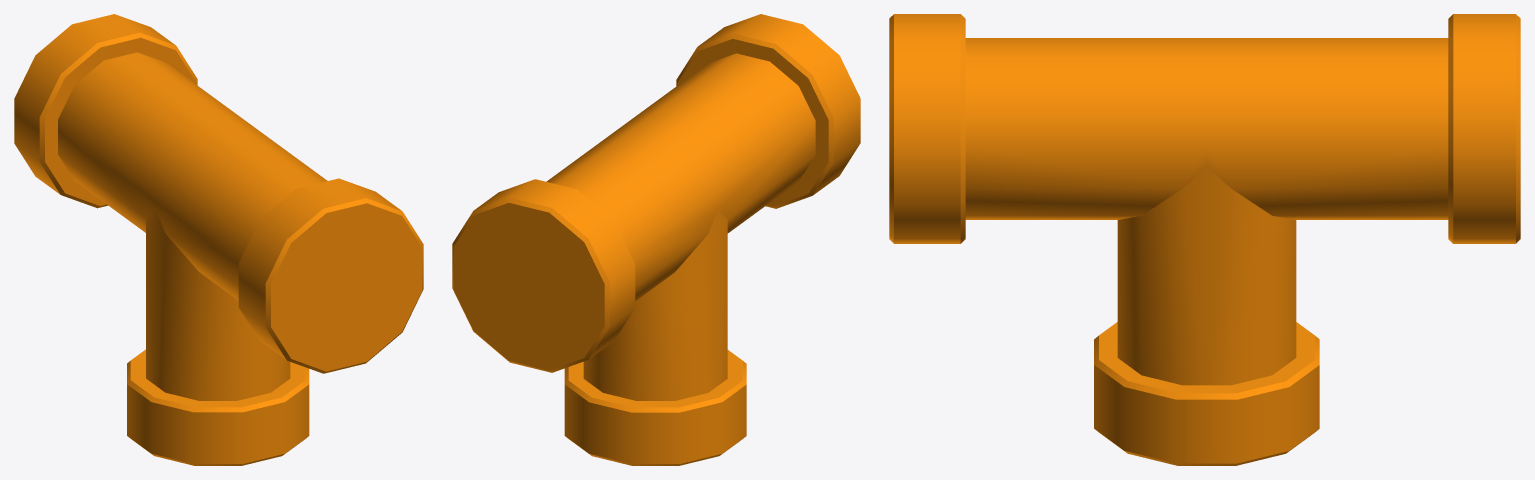
File: Fix_2Axes_.fbx
The picture shows the model from 3 angles, left to right: view 1: azimuth 30°, elevation 25°; view 2: azimuth 150°, elevation 25°; view 3: azimuth 270°, elevation 25°; orthographic projection. The views are drawn at different scales.
Visible parts, largest first — view 1: Fix_2Axes_; view 2: Fix_2Axes_; view 3: Fix_2Axes_.
Part boxes in pixels (bbox=[...]): Fix_2Axes_: bbox=[14, 14, 423, 465]; Fix_2Axes_: bbox=[452, 14, 860, 465]; Fix_2Axes_: bbox=[889, 14, 1520, 465].
Bounding box in the file's own units: 0.5271 × 1.48 × 1.01.
